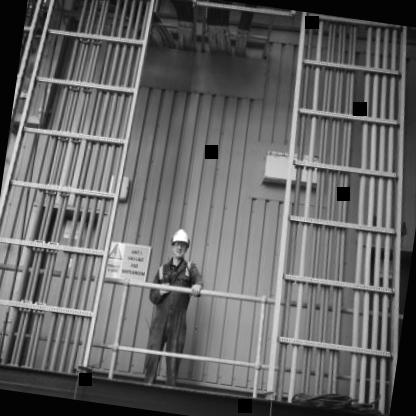helmet: (166, 224, 192, 263)
